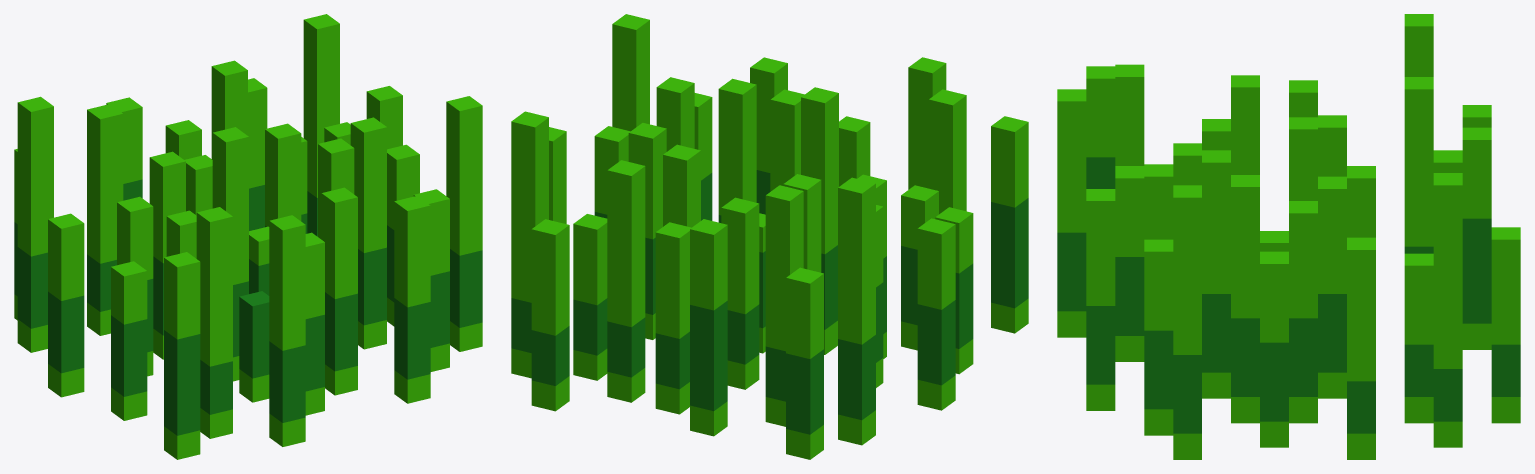
The model's file is grass_0.glb.
The picture shows the model from 3 angles, left to right: view 1: azimuth 30°, elevation 25°; view 2: azimuth 150°, elevation 25°; view 3: azimuth 270°, elevation 25°; orthographic projection. The views are drawn at different scales.
Visible parts, largest first — view 1: grass_0; view 2: grass_0; view 3: grass_0.
Part boxes in pixels (left/top/right/bottom): grass_0: left=14, top=14, right=482, bottom=459; grass_0: left=511, top=14, right=1028, bottom=459; grass_0: left=1057, top=14, right=1520, bottom=459.
Size of the model in its own units: 1.6 by 1 by 1.6.
Materials: 1 (1 with a texture image).
